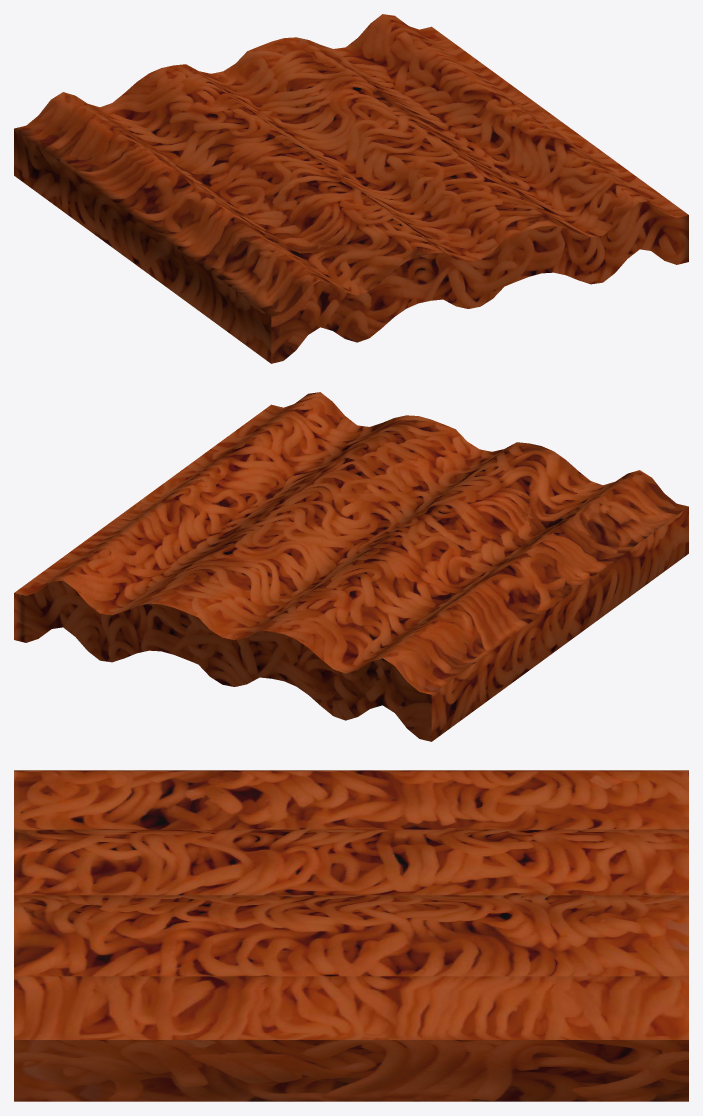
The model's file is Instant Noodles.fbx.
3 views of the same model, one above another, from view 1: azimuth 30°, elevation 25°; view 2: azimuth 150°, elevation 25°; view 3: azimuth 270°, elevation 25° (orthographic). The views are drawn at different scales.
Visible parts, largest first — view 1: Normal_Instant_Noodle; view 2: Normal_Instant_Noodle; view 3: Normal_Instant_Noodle.
Boxes of the visible parts, left/top/right/bottom form: Normal_Instant_Noodle: left=14, top=14, right=688, bottom=363; Normal_Instant_Noodle: left=14, top=392, right=688, bottom=741; Normal_Instant_Noodle: left=14, top=770, right=688, bottom=1101.
Size of the model in its own units: 9.3 by 1.52 by 9.92.
1 material, 1 textured.
